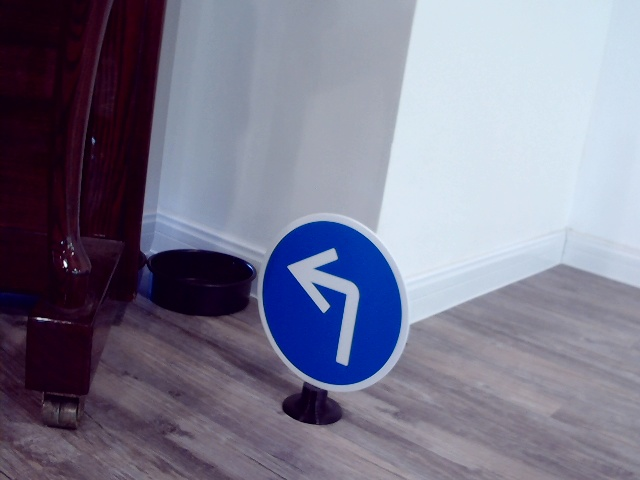turn_left: (287, 239, 368, 369)
